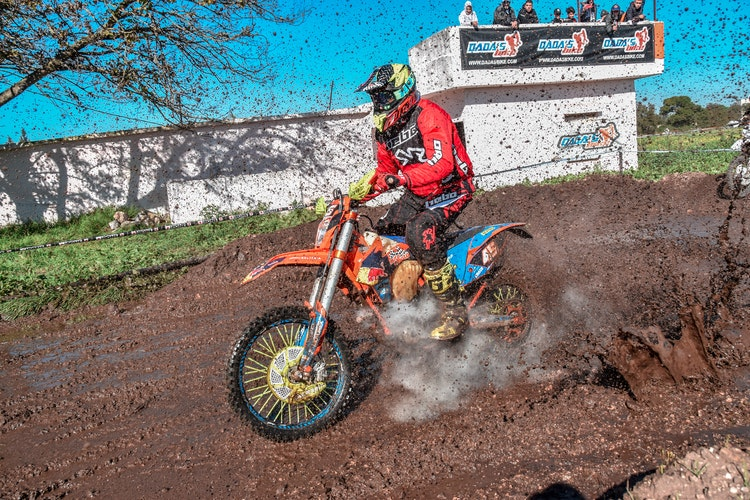helmet: (359, 64, 431, 127)
